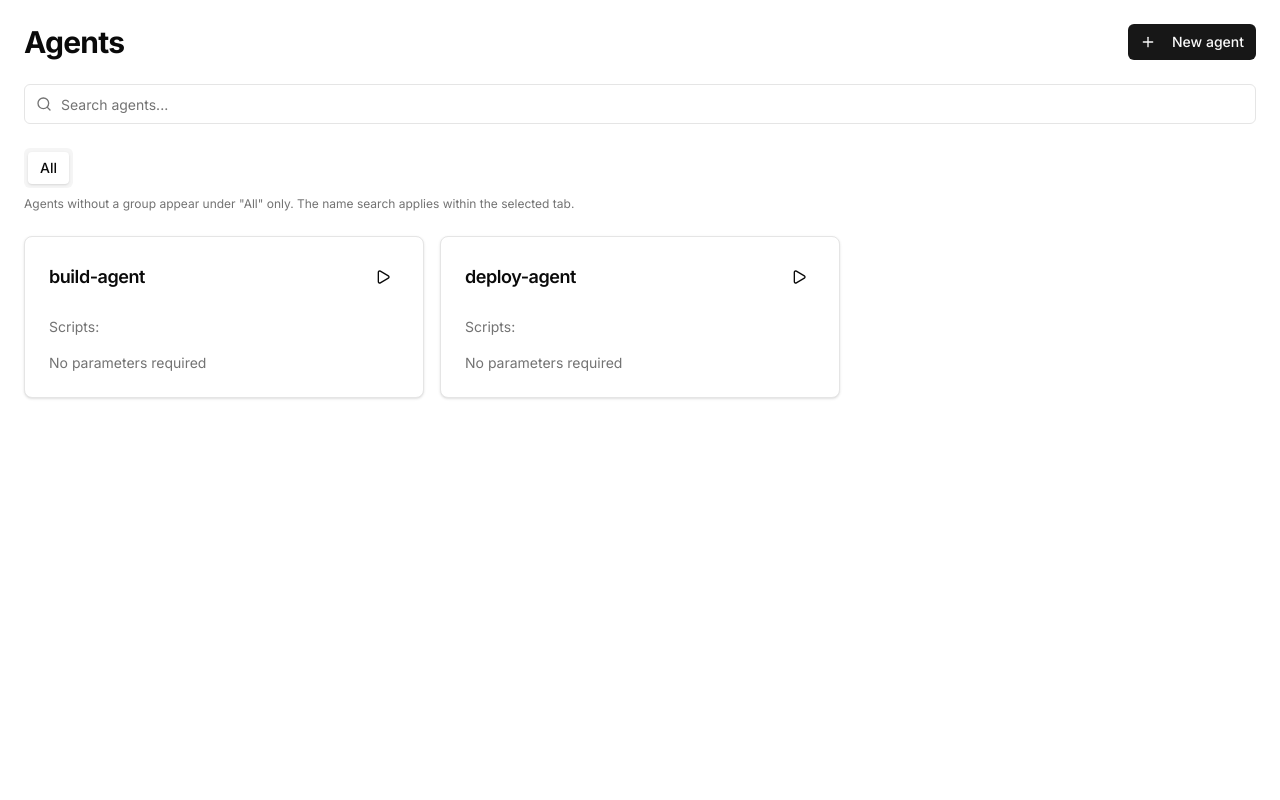
AgentsPage run dialog › opens the run dialog for the agent whose Run button was clicked
Click the button named "Run agent deploy-agent" at point(799, 277), box [783,261,815,293]
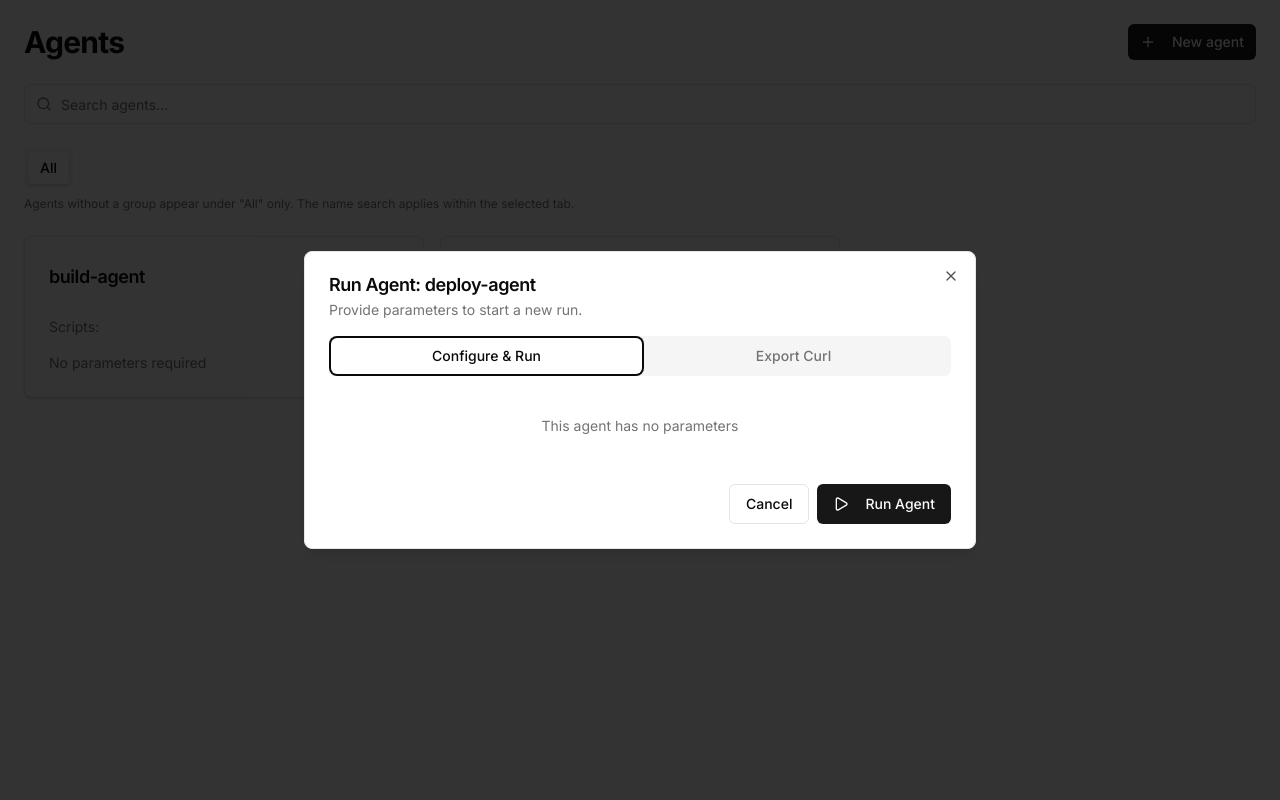
expect the dialog shows "Run Agent: deploy-agent": met, box [304,251,976,549]
